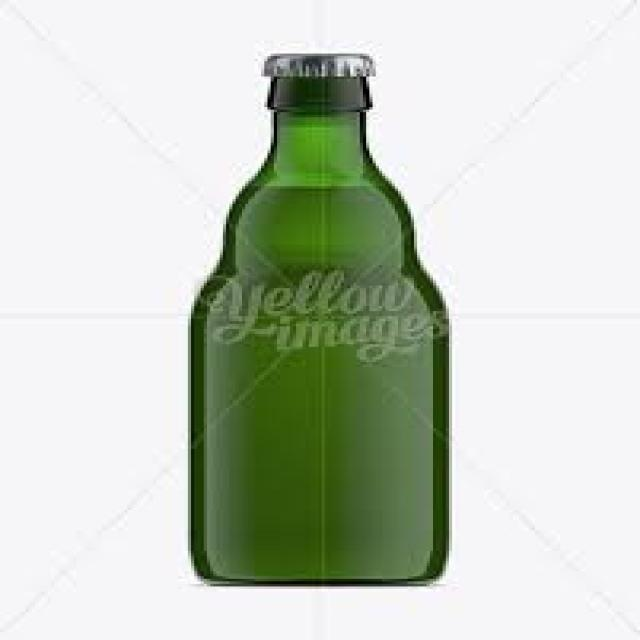glass: (188, 74, 446, 584)
metal: (258, 48, 372, 79)
